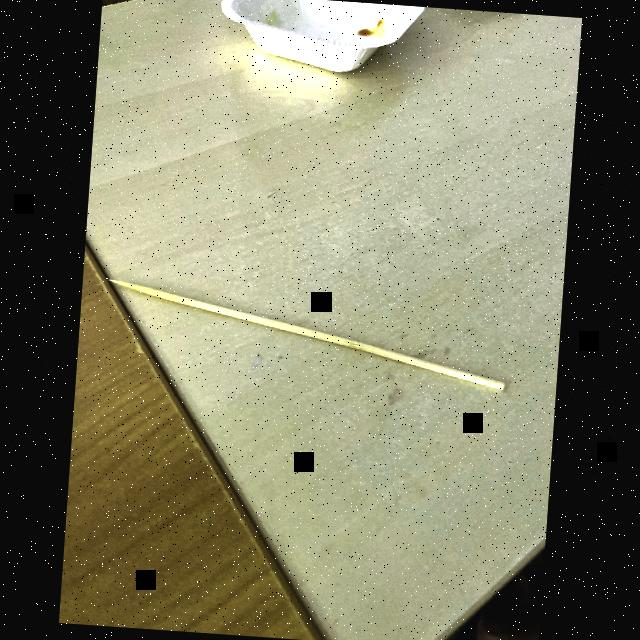cardboard_bowl: (198, 0, 429, 91)
stick: (84, 262, 530, 428)
